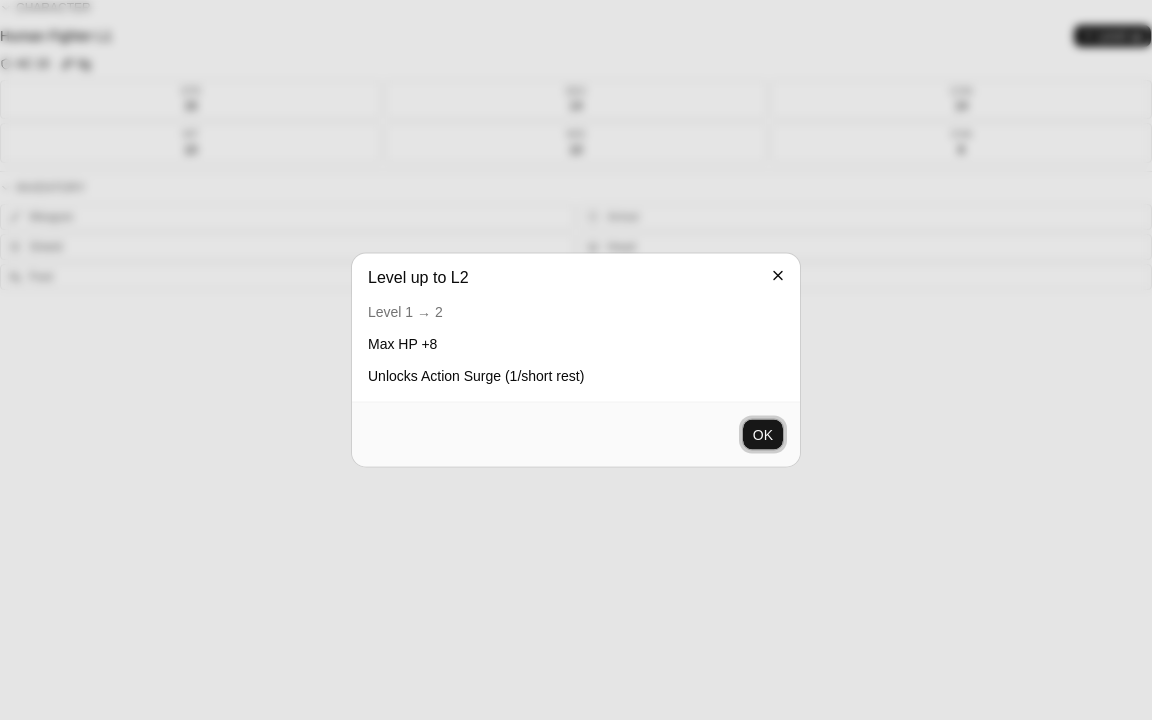
PlayerStats — level-up integration › on successful level-up: store reflects new player, modal closes, button hidden
This screenshot has width=1152, height=720.
Click the button "OK".
click(763, 434)  # box [742,418,784,450]
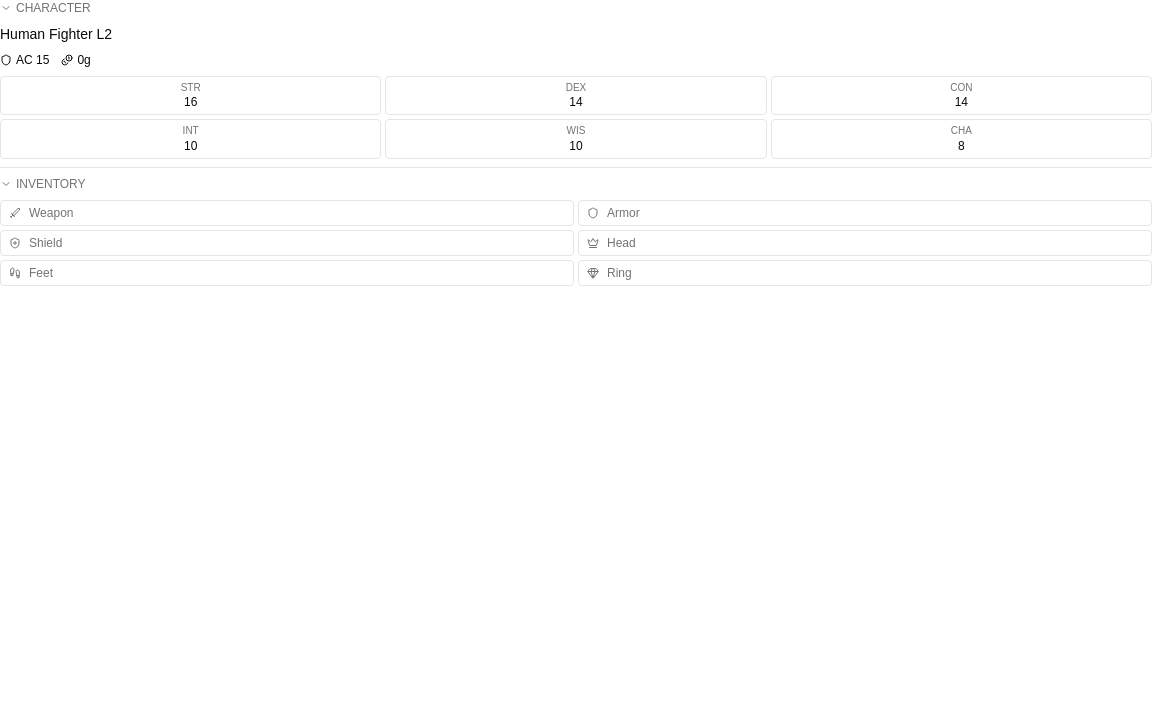
Now the dialog with test id "level-up-modal" is gone
Now the button "Level up" is gone
